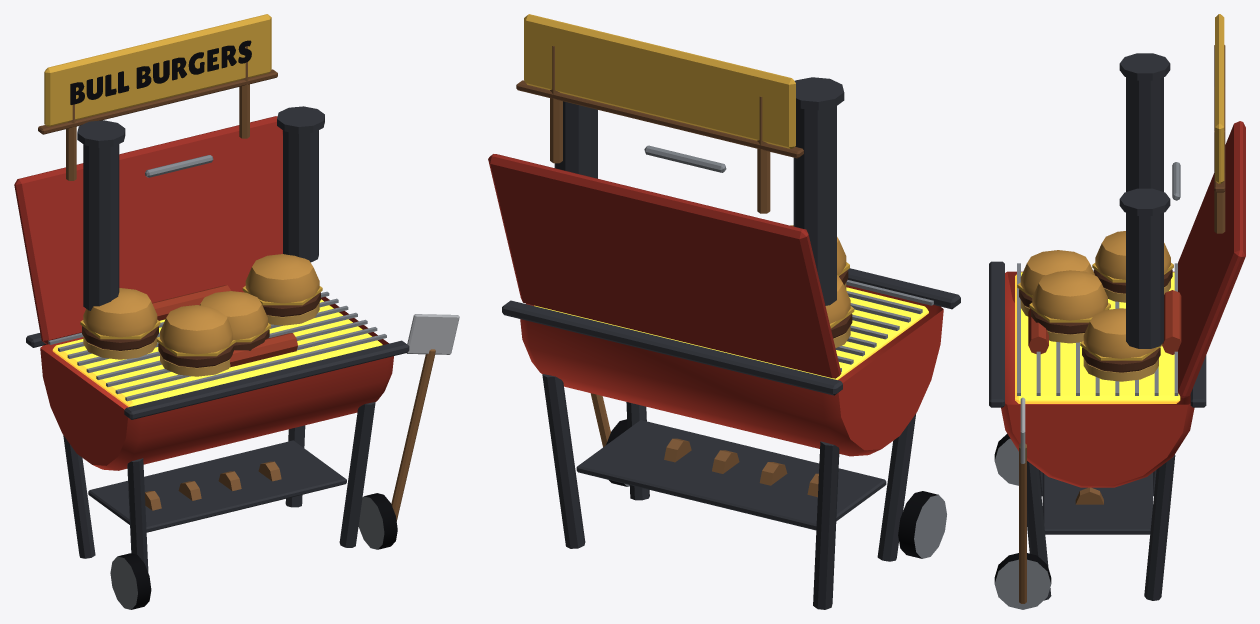
The model's file is grill.glb.
3 renders of one model, left to right at view 1: azimuth 30°, elevation 25°; view 2: azimuth 150°, elevation 25°; view 3: azimuth 270°, elevation 25°, orthographic. The views are drawn at different scales.
Parts seen in each view (by area): view 1: body, fx_glow_coals; view 2: body, fx_glow_coals; view 3: body, fx_glow_coals.
Boxes of the visible parts, left/top/right/bottom form: body: left=14, top=14, right=459, bottom=609; fx_glow_coals: left=52, top=299, right=382, bottom=406; body: left=488, top=14, right=960, bottom=609; fx_glow_coals: left=534, top=287, right=928, bottom=379; body: left=989, top=14, right=1245, bottom=609; fx_glow_coals: left=1015, top=272, right=1180, bottom=403.
Size of the model in its own units: 5.18 by 6.69 by 3.26.
